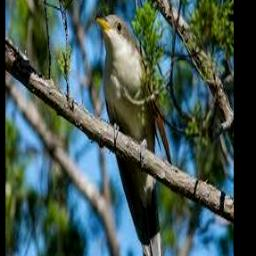Cuckoo: (95, 14, 173, 256)
